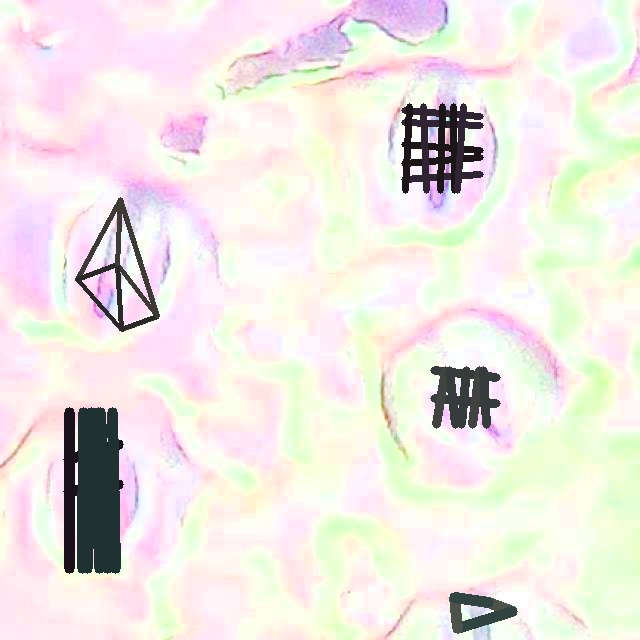open: (75, 197, 159, 331), (63, 407, 122, 572), (402, 103, 482, 192), (430, 366, 499, 428), (450, 597, 517, 633)
